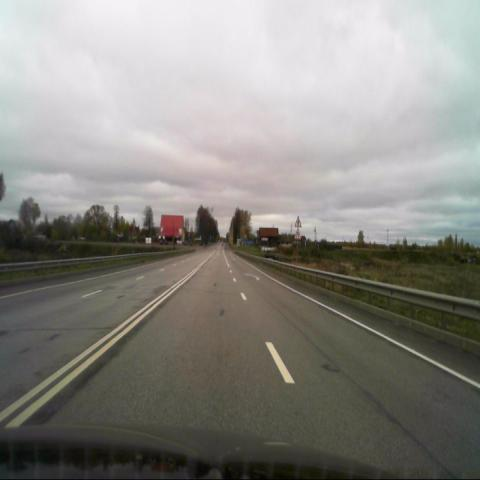1_20: (294, 229, 301, 239)
2_3: (294, 215, 302, 228)
